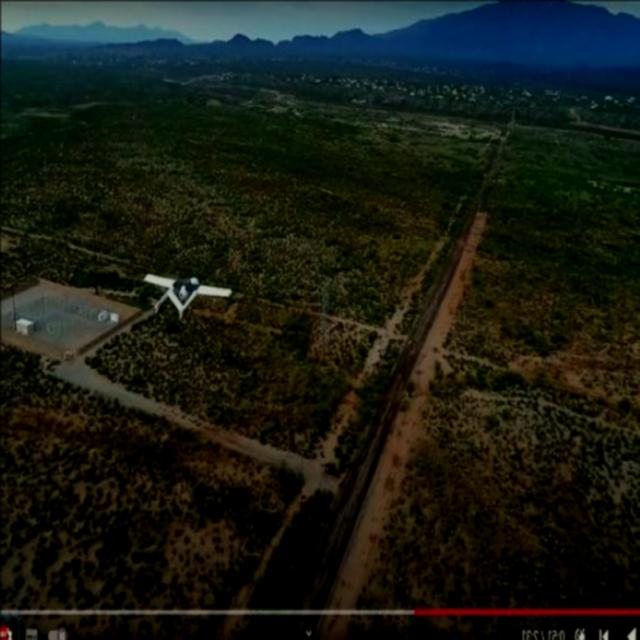plane: (142, 270, 232, 320)
